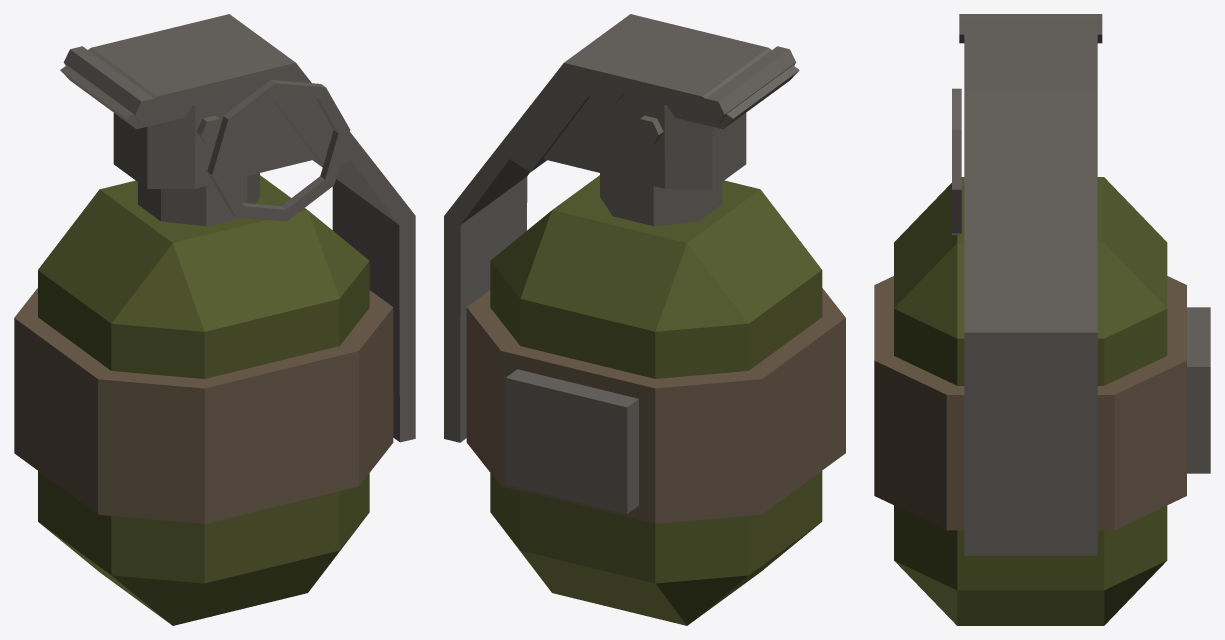
The model's file is Graned_01_SM.FBX.
3 views of the same model, side by side, from view 1: azimuth 30°, elevation 25°; view 2: azimuth 150°, elevation 25°; view 3: azimuth 270°, elevation 25° (orthographic).
Visible parts, largest first — view 1: Graned_01_SM; view 2: Graned_01_SM; view 3: Graned_01_SM.
Boxes of the visible parts, bbox=[...] form: Graned_01_SM: bbox=[14, 14, 415, 625]; Graned_01_SM: bbox=[444, 14, 845, 625]; Graned_01_SM: bbox=[874, 14, 1210, 625].
Size of what is drawn, in the model's own units: 6.47 by 5.77 by 10.06.
